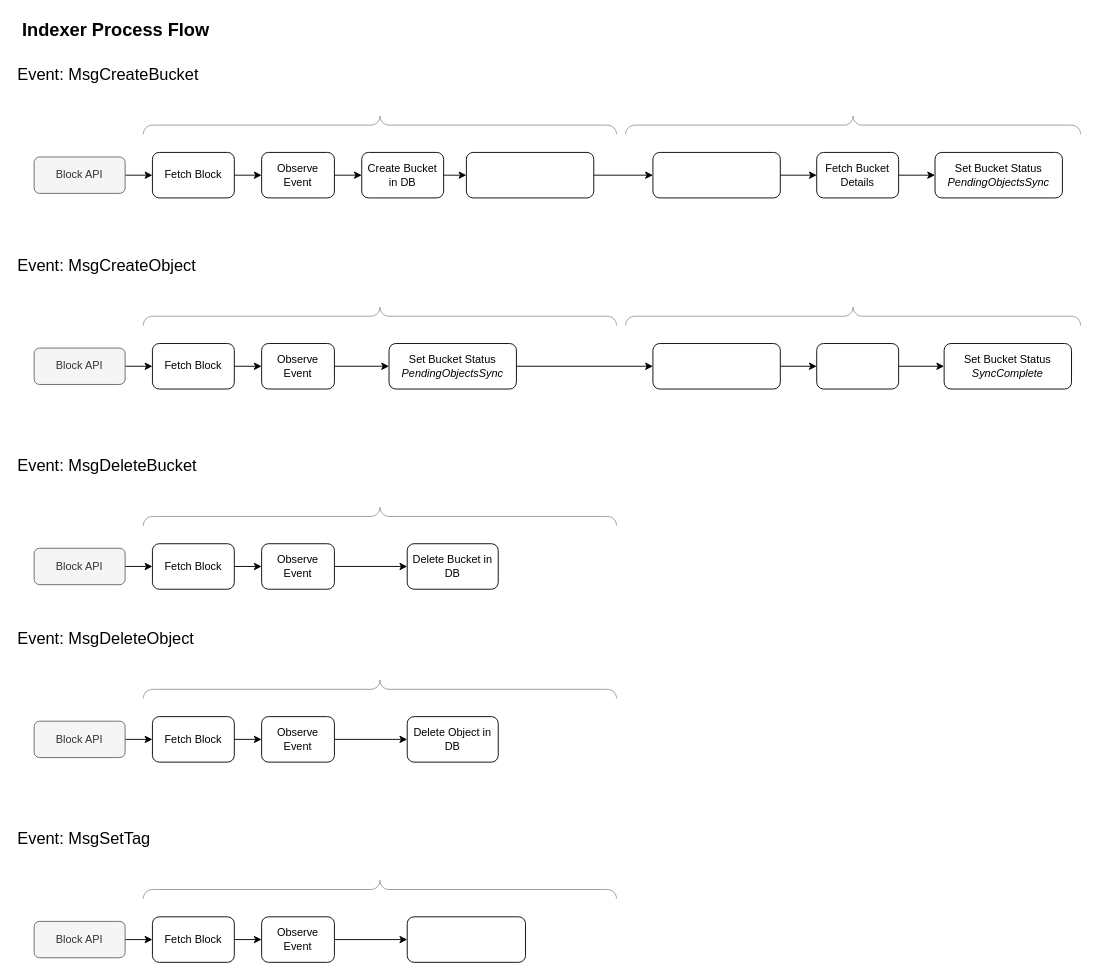
Some shapes in this 1097 by 978 pixel diagram are drawn without their labels. The shapes that lost their labels are listed below. From the top down, each one's centre as x and y in pixels, then its label:
point 529,175: Set Bucket Status PendingBucketSync
point 716,175: Get Bucket Status PendingBucketSync
point 716,366: Get Bucket Status PendingObjectsSync
point 857,366: Fetch Bucket Objects
point 466,939: Update Bucket/Object Tags in DB
